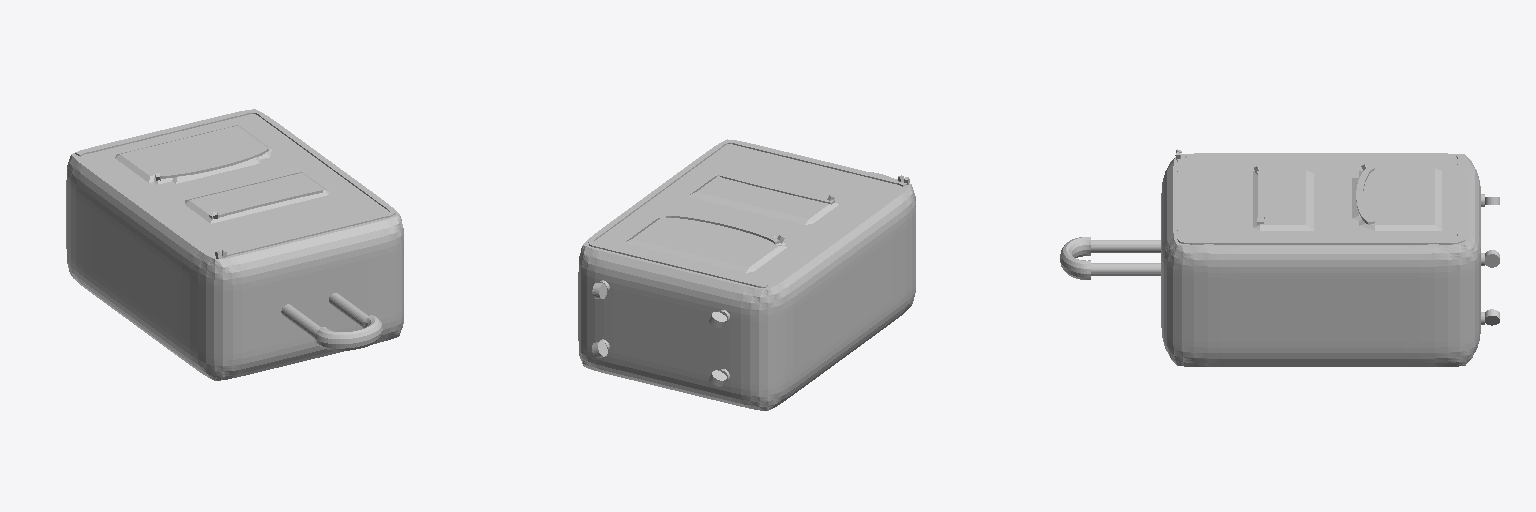
File: suitcase.obj
The picture shows the model from 3 angles: view 1: azimuth 30°, elevation 25°; view 2: azimuth 150°, elevation 25°; view 3: azimuth 270°, elevation 25°; orthographic projection.
Visible parts, largest first — view 1: Cube, Cube.009, Torus, Cube.012, Cube.010, Cylinder, Cylinder.001; view 2: Cube, Cube.009, Cube.012, Cube.010; view 3: Cube, Cube.009, Torus, Cylinder, Cylinder.001.
Part boxes in pixels (x1,y1,x2,y2): Cube: (66,109,403,380); Cube.009: (75,110,395,256); Torus: (315,315,382,350); Cube.012: (155,147,268,178); Cube.010: (209,188,322,219); Cylinder: (329,293,368,327); Cylinder.001: (281,304,321,338); Cube: (578,139,915,410); Cube.009: (588,140,906,287); Cube.012: (666,213,779,244); Cube.010: (720,173,834,204); Cube: (1161,153,1480,366); Cube.009: (1177,155,1464,244); Torus: (1060,237,1090,279); Cylinder: (1091,263,1160,275); Cylinder.001: (1091,240,1160,252).
Size of the model in its own units: 3.54 by 2.14 by 6.58.